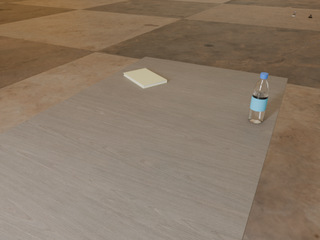book: (124, 68, 167, 88)
bottle: (248, 73, 269, 123)
